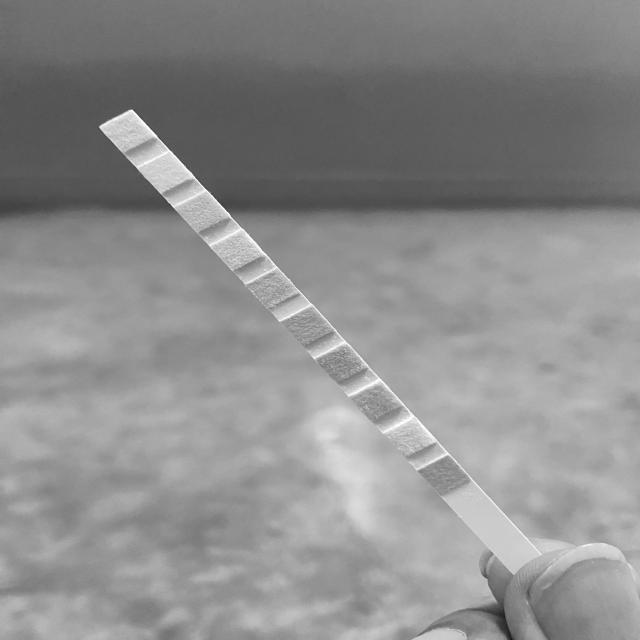Bilirubin: (398, 426, 421, 449)
Blood: (294, 314, 320, 338)
Glucose: (433, 463, 454, 486)
Ketone: (363, 389, 386, 413)
Leukocytes: (115, 118, 141, 144)
Nitrite: (151, 159, 178, 184)
Protein: (225, 237, 250, 262)
SpGravity: (328, 351, 352, 375)
Urobilinogen: (189, 198, 215, 225)
background: (0, 0, 640, 640)
pH: (261, 276, 284, 299)
strip: (99, 109, 543, 573)
